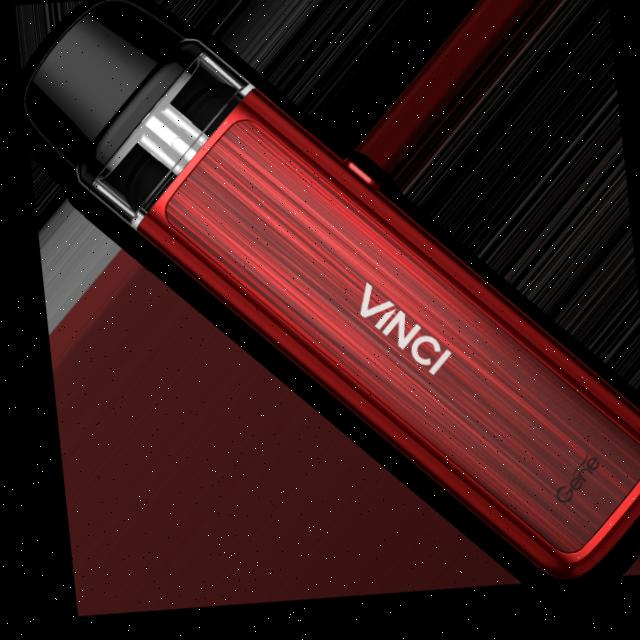vape: (21, 0, 640, 586)
